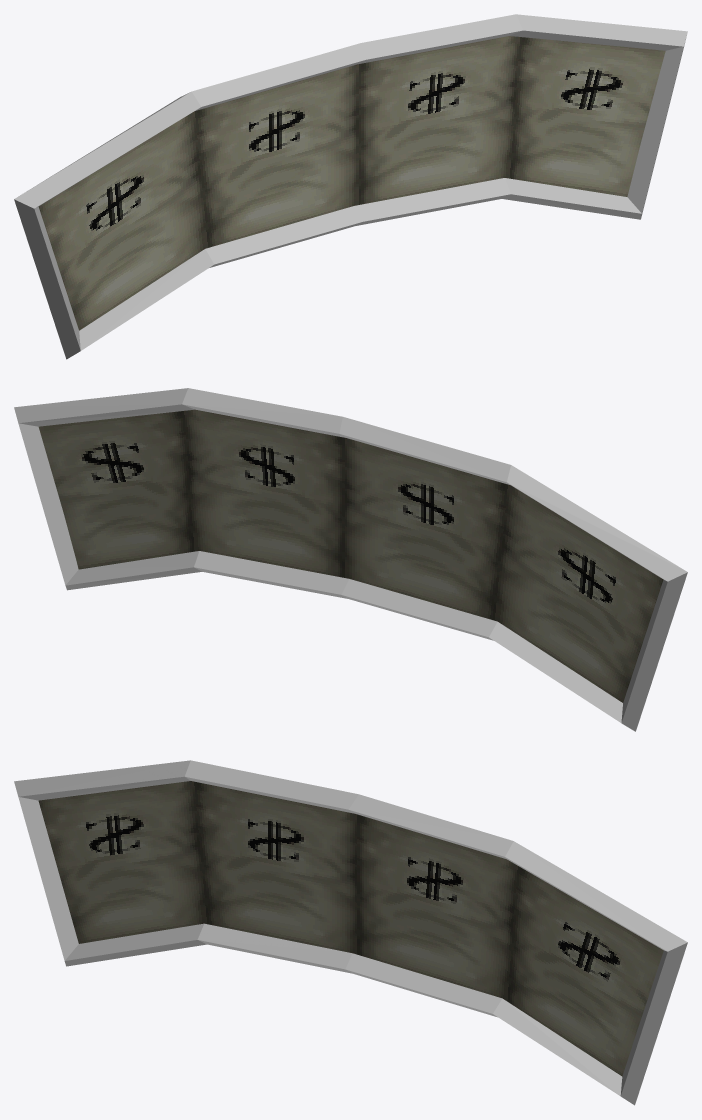
The model's file is Schild_Hehler_1699.glb.
The picture shows the model from 3 angles, top to bottom: view 1: azimuth 30°, elevation 25°; view 2: azimuth 150°, elevation 25°; view 3: azimuth 330°, elevation 25°; orthographic projection.
Parts seen in each view (by area): view 1: pPlaneShape1, pTorusShape1; view 2: pPlaneShape1, pTorusShape1; view 3: pPlaneShape1, pTorusShape1.
Part boxes in pixels (box(x1,y1,x2,y2)): pPlaneShape1: box(38, 36, 665, 330); pTorusShape1: box(14, 14, 687, 359); pPlaneShape1: box(38, 409, 663, 702); pTorusShape1: box(14, 388, 687, 731); pPlaneShape1: box(38, 781, 663, 1076); pTorusShape1: box(14, 760, 687, 1105).
Bounding box in the file's own units: 0.412 × 0.1427 × 0.0198.
Materials: 2 (1 with a texture image).
